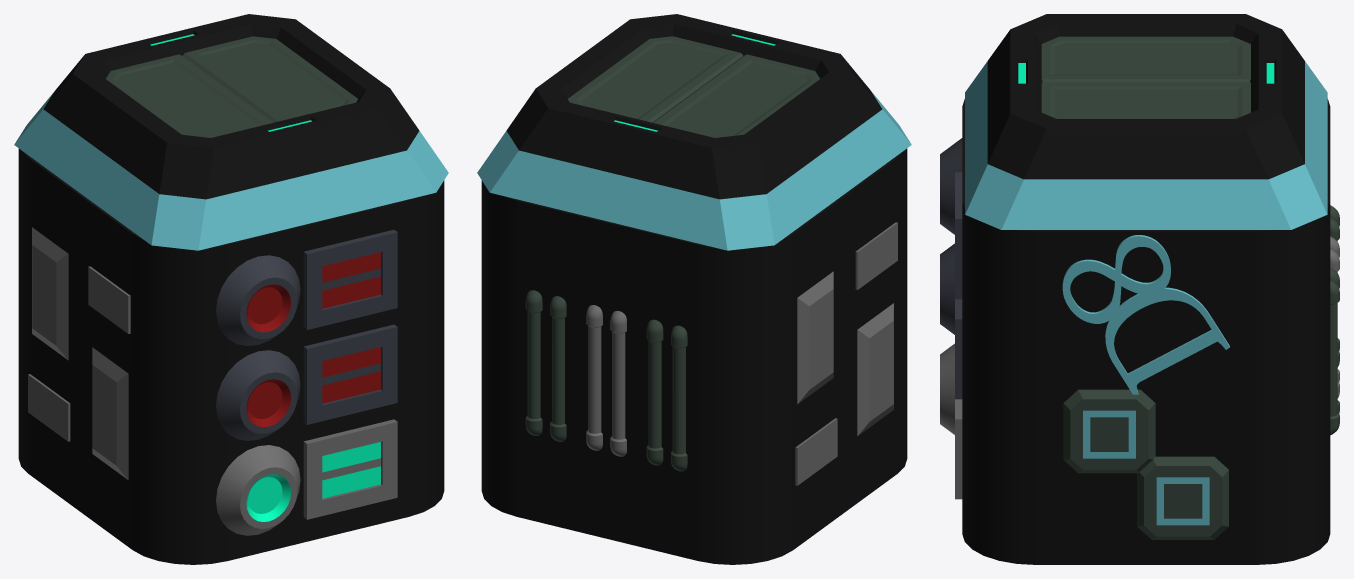
Rendered from Pico_D8Crate.glb.
3 renders of one model, left to right at view 1: azimuth 30°, elevation 25°; view 2: azimuth 150°, elevation 25°; view 3: azimuth 270°, elevation 25°, orthographic. The views are drawn at different scales.
Parts seen in each view (by area): view 1: mergedBlocks(Clone); view 2: mergedBlocks(Clone); view 3: mergedBlocks(Clone).
Boxes of the visible parts, left/top/right/bottom form: mergedBlocks(Clone): left=14, top=14, right=448, bottom=564; mergedBlocks(Clone): left=477, top=14, right=911, bottom=564; mergedBlocks(Clone): left=940, top=14, right=1339, bottom=564.
Size of the model in its own units: 1.04 by 1.25 by 1.09.
1 material, 1 textured.
